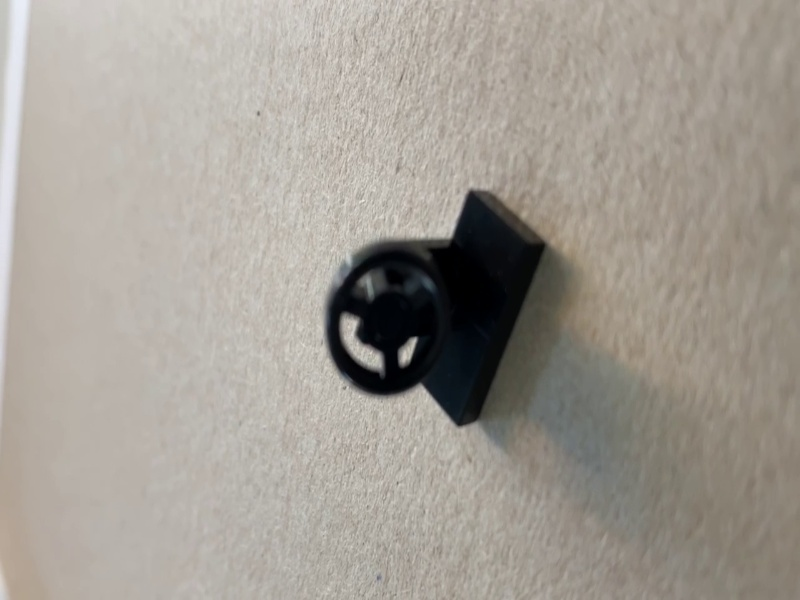steering wheel: (326, 189, 548, 428)
